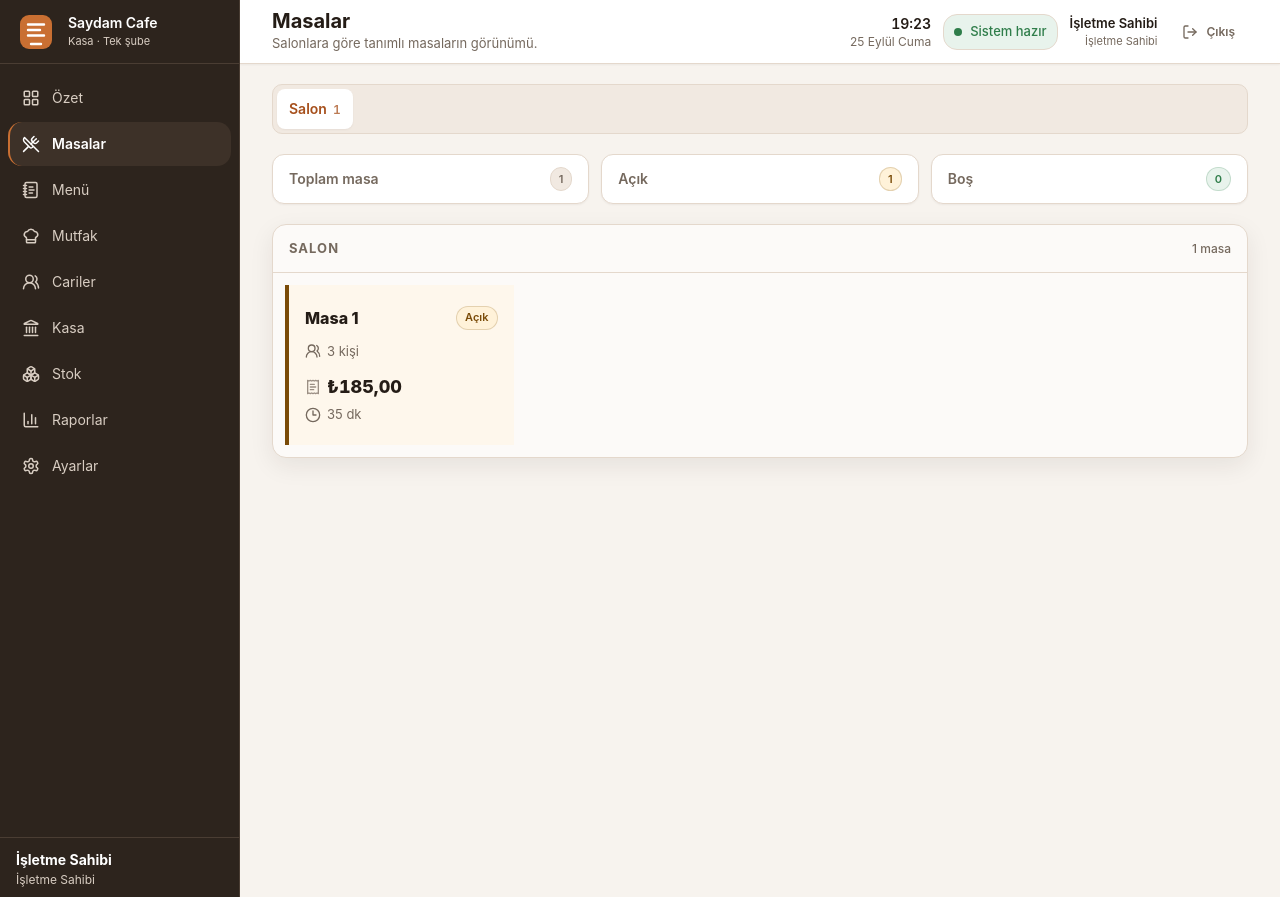
it: Masa ve adisyon ekranı › açık masadan adisyonu açar ve snapshot kalemleri gösterir
Click the button "Masa 1 Açık 3 kişi ₺185,00 35 dk" at (399, 365), box [285, 285, 514, 445]
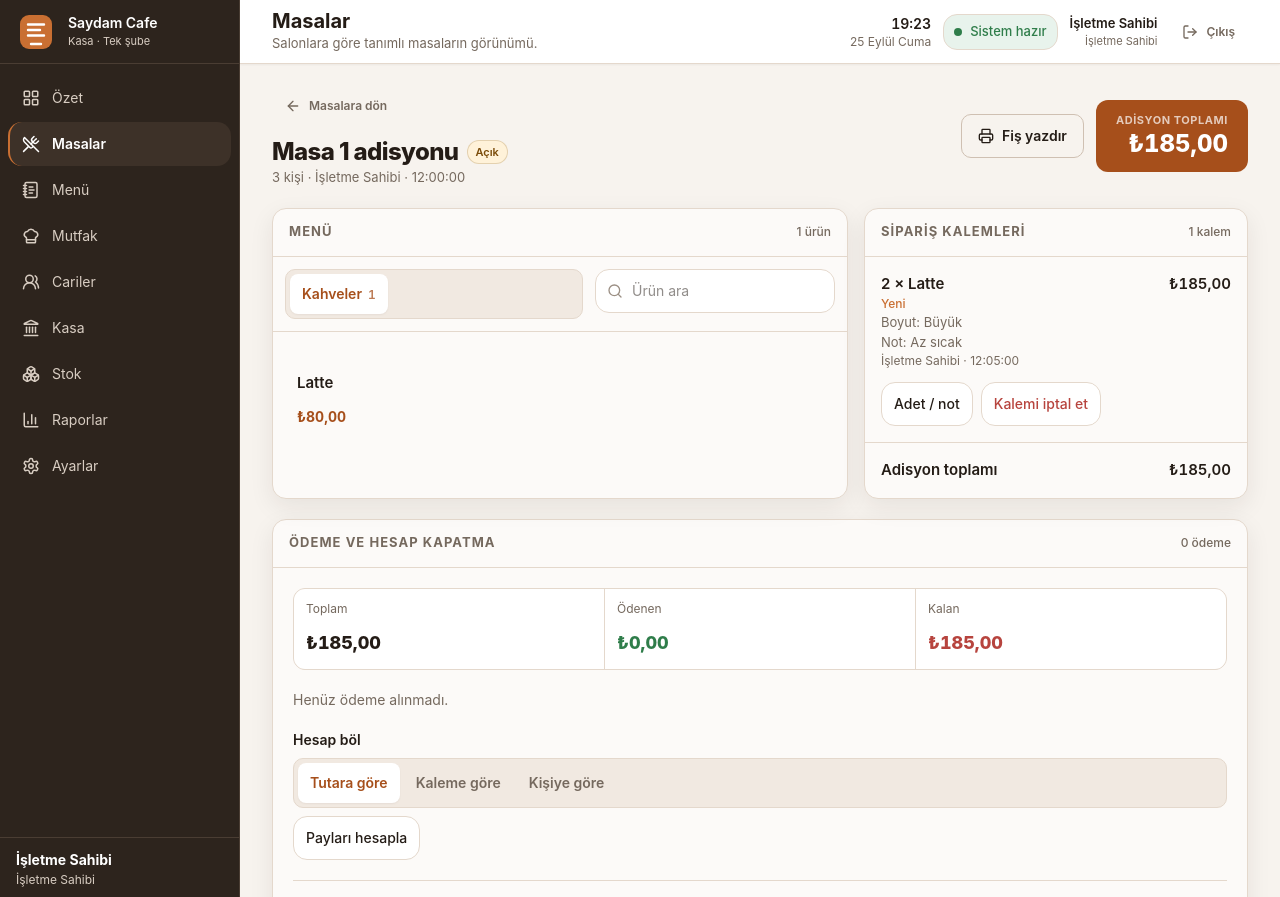
Check: the heading "Masa 1 adisyonu" is shown, box [272, 136, 458, 168]
Check: the text "Boyut: Büyük" is shown, box [881, 314, 962, 330]
Check: the text "Not: Az sıcak" is shown, box [881, 334, 962, 350]
